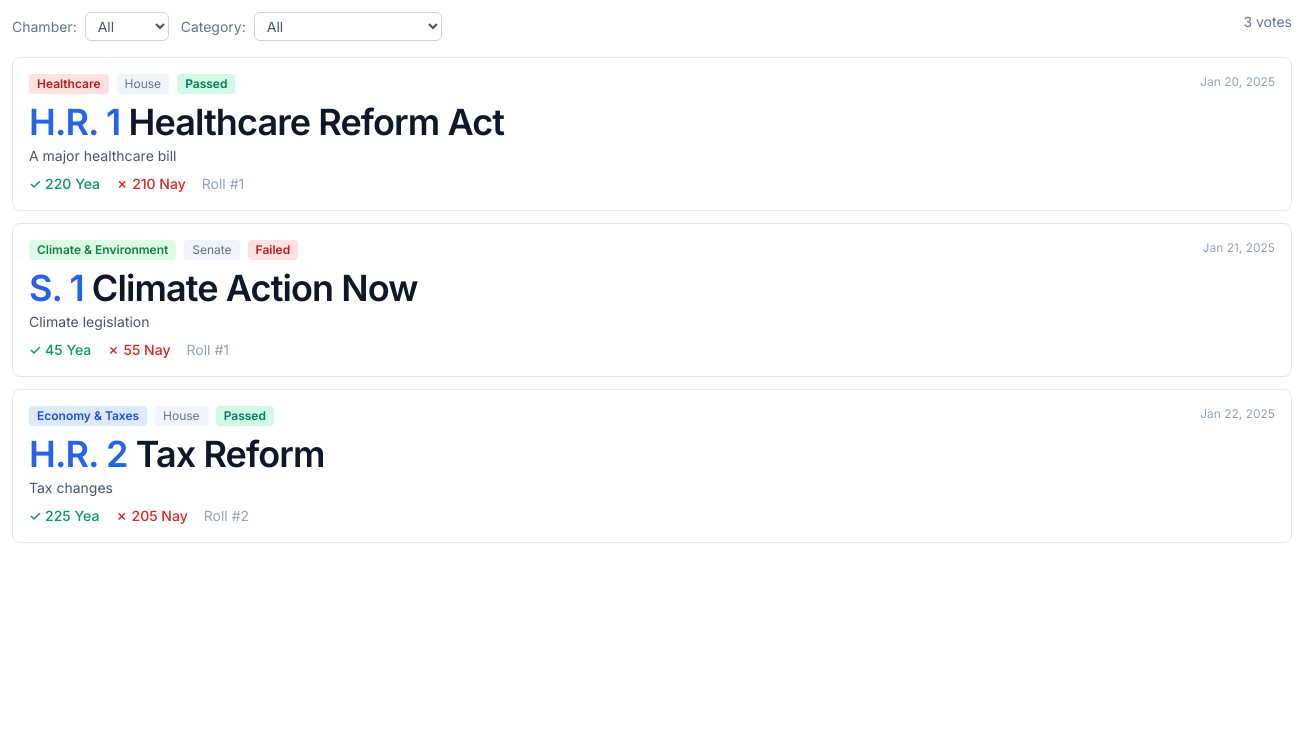
Scenario: KeyVotes › filters by category
Select "Healthcare" in the dropdown labelled "Category:": (348, 26) 254,12 -> 442,41
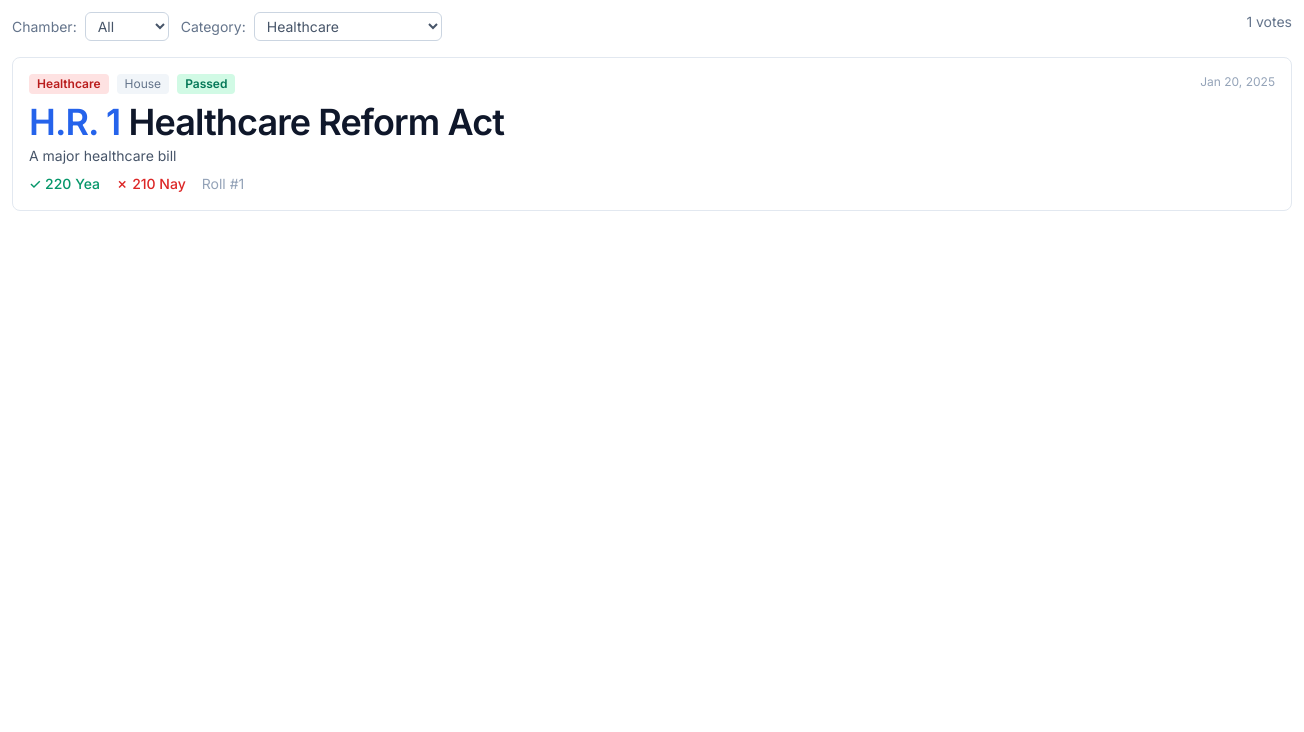
Expected: the text "H.R. 1" is shown, 29,100 -> 120,144
Expected: the text "S. 1" is gone
